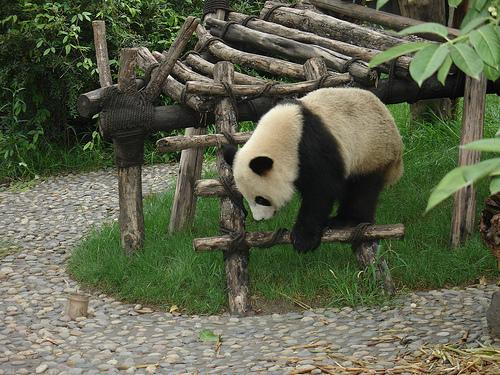panda: (225, 88, 402, 252)
